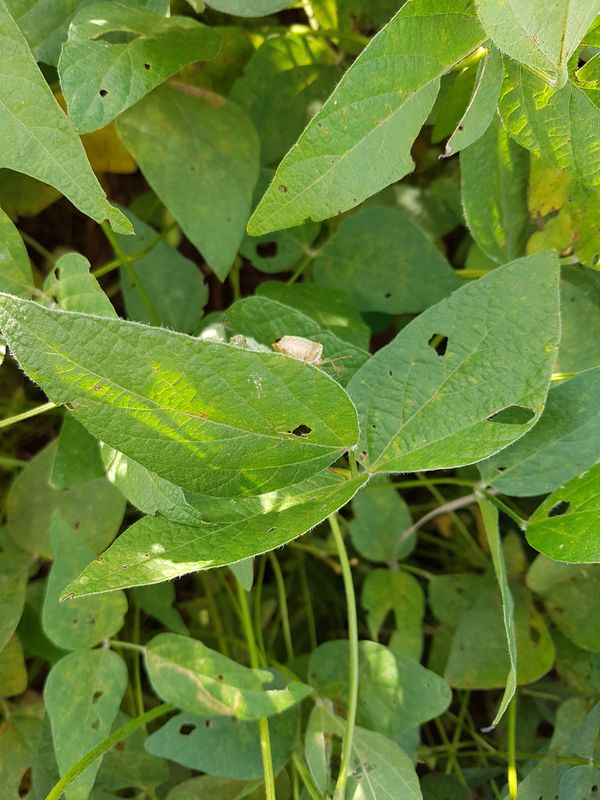Edessa_meditabunda: (263, 327, 357, 392)
